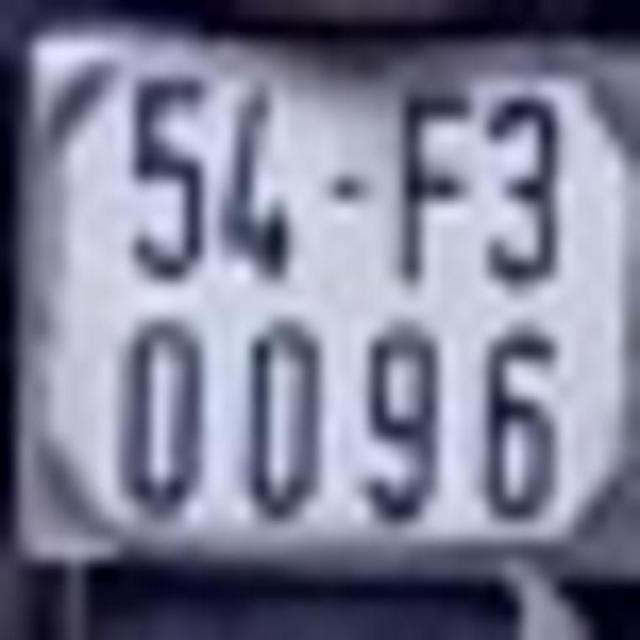0: (121, 318, 207, 520), (247, 315, 324, 520)
3: (484, 76, 558, 292)
4: (228, 67, 295, 300)
5: (127, 60, 213, 282)
6: (480, 315, 560, 528)
9: (364, 314, 442, 522)
F: (395, 80, 473, 291)
